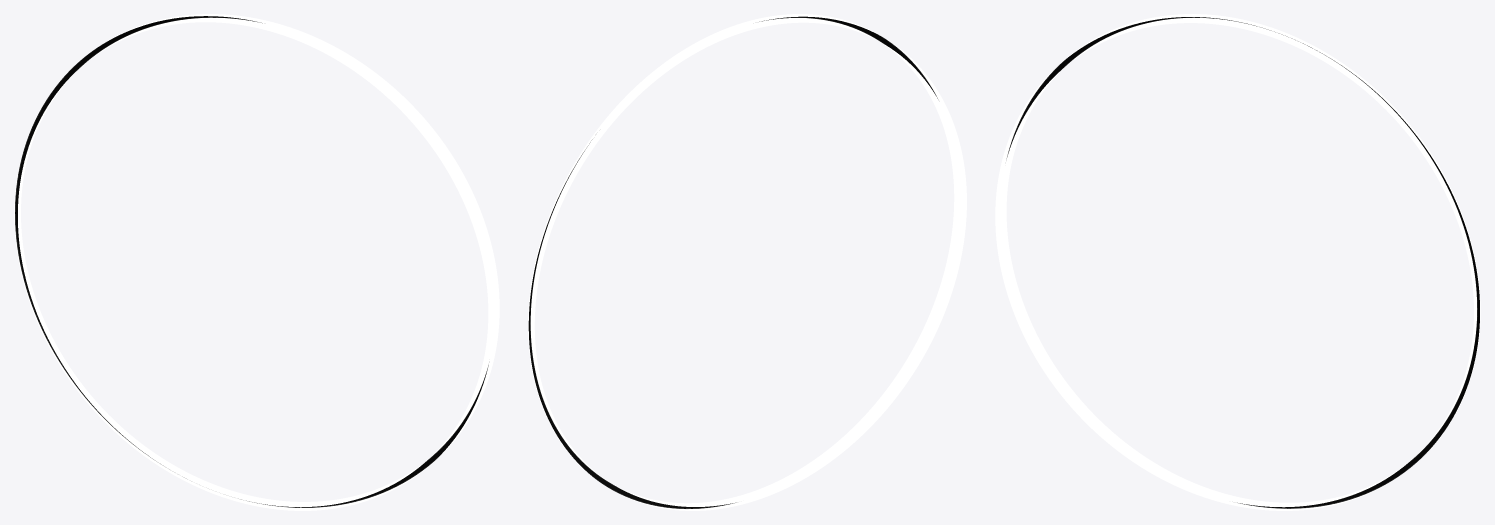
The model's file is rotating_circle.glb.
The picture shows the model from 3 angles, left to right: view 1: azimuth 90°, elevation 25°; view 2: azimuth 150°, elevation 25°; view 3: azimuth 270°, elevation 25°; orthographic projection.
Parts seen in each view (by area): view 1: circle8; view 2: circle8; view 3: circle8.
Part boxes in pixels (x1,y1,x2,y2): circle8: [14, 14, 499, 510]; circle8: [528, 14, 966, 510]; circle8: [995, 14, 1480, 510].
Bounding box in the file's own units: 113 × 254 × 231.
2 materials, 1 textured.
